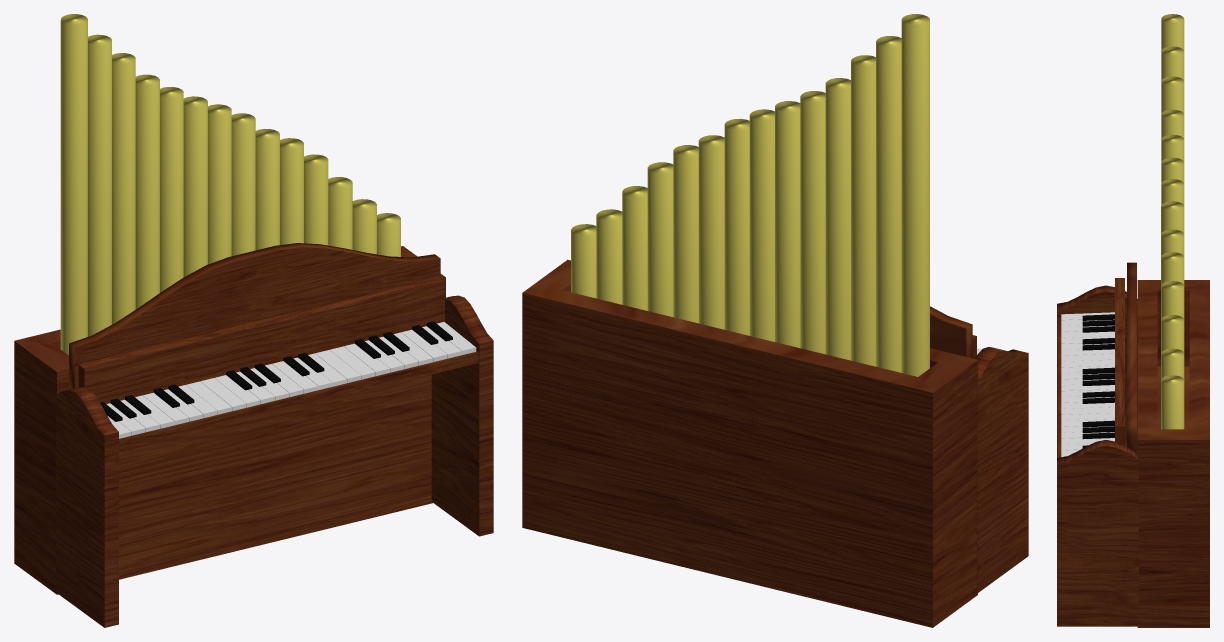
Rendered from piano.fbx.
3 renders of one model, left to right at view 1: azimuth 30°, elevation 25°; view 2: azimuth 150°, elevation 25°; view 3: azimuth 270°, elevation 25°, orthographic. The views are drawn at different scales.
Parts seen in each view (by area): view 1: main, pipe.008, pipe.009, pipe.010, kenbann.024, pipe.011, kenbann.023, pipe.012, pipe.013, pipe, kenbannKuro.009, pipe.001 (+6 smaller); view 2: main, pipe.008, pipe.009, pipe.010, pipe.011, pipe.012, pipe.013, pipe, pipe.001, pipe.002, pipe.003, pipe.004 (+3 smaller); view 3: main, kenbann.024, kenbann.023, kenbannKuro.009, pipe.007, pipe.004, pipe.005, pipe.010, pipe.008, pipe.009, pipe.003, pipe.001 (+6 smaller).
Part boxes in pixels (x1,y1,x2,y2): main: (14,243,493,627); pipe.008: (60,14,87,355); pipe.009: (88,34,111,336); pipe.010: (112,53,135,324); kenbann.024: (107,322,476,438); pipe.011: (135,74,159,309); kenbann.023: (106,326,461,435); pipe.012: (160,87,183,292); pipe.013: (183,96,207,276); pipe: (208,104,231,264); kenbannKuro.009: (100,321,452,421); pipe.001: (231,113,255,256); main: (522,259,1028,627); pipe.008: (901,14,929,376); pipe.009: (876,36,901,372); pipe.010: (851,55,875,366); pipe.011: (825,78,850,360); pipe.012: (800,91,825,354); pipe.013: (775,101,800,347); pipe: (749,109,774,341); pipe.001: (724,118,749,335); pipe.002: (698,135,724,329); pipe.003: (673,145,698,323); pipe.004: (647,162,673,316); main: (1057,262,1209,627); kenbann.024: (1061,312,1114,457); kenbann.023: (1061,319,1114,456); kenbannKuro.009: (1082,314,1114,447); pipe.007: (1161,375,1184,429); pipe.004: (1161,281,1184,319); pipe.005: (1161,315,1184,352); pipe.010: (1161,76,1184,113); pipe.008: (1161,14,1184,50); pipe.009: (1161,46,1184,80); pipe.003: (1161,252,1184,285); pipe.001: (1161,201,1184,233).
Size of the model in its own units: 72.35 by 97.8 by 29.14.
